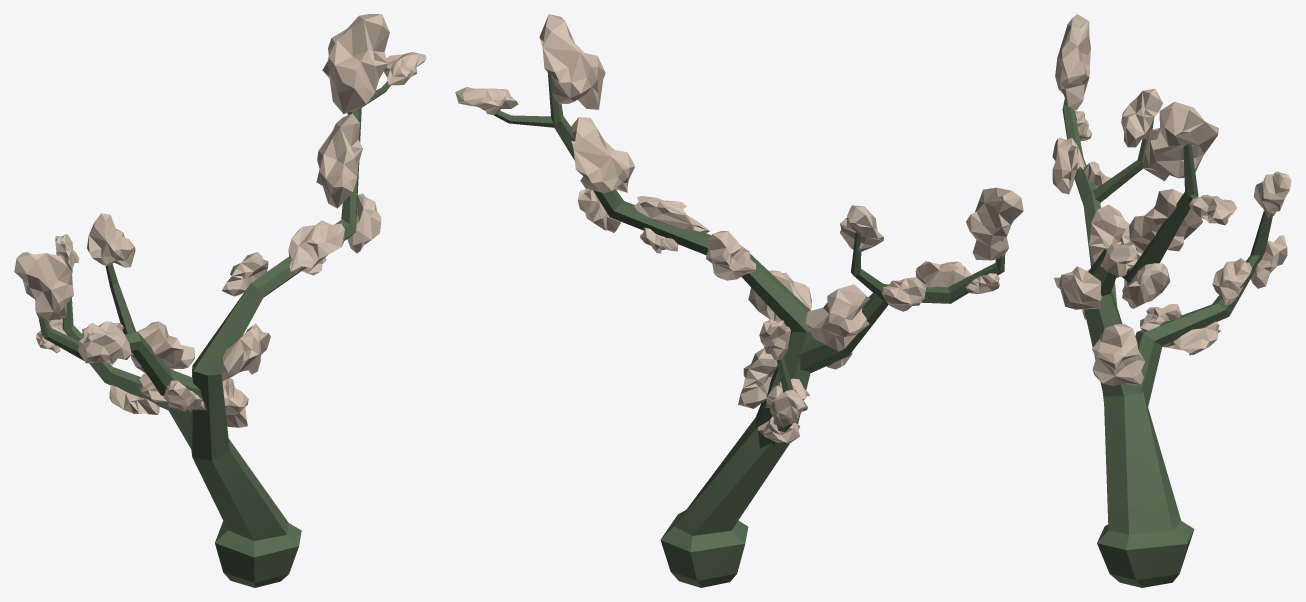
Rendered from peach tree2.fbx.
3 views of the same model, side by side, from view 1: azimuth 30°, elevation 25°; view 2: azimuth 150°, elevation 25°; view 3: azimuth 270°, elevation 25° (orthographic). The views are drawn at different scales.
Parts seen in each view (by area): view 1: polySurface95; view 2: polySurface95; view 3: polySurface95.
Boxes of the visible parts, x1,y1,x2,y2 form: polySurface95: [14, 14, 426, 587]; polySurface95: [455, 14, 1023, 587]; polySurface95: [1052, 14, 1291, 587].
Size of the model in its own units: 381 by 393 by 158.
